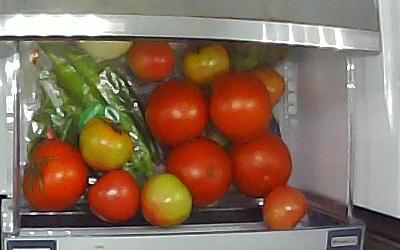tomato: (167, 137, 233, 208), (23, 140, 88, 212), (145, 79, 210, 148), (209, 72, 272, 143), (232, 131, 292, 197), (79, 119, 135, 172), (140, 173, 192, 227), (89, 170, 140, 223), (181, 42, 230, 87), (263, 185, 310, 231), (125, 41, 176, 82), (253, 68, 285, 107)
